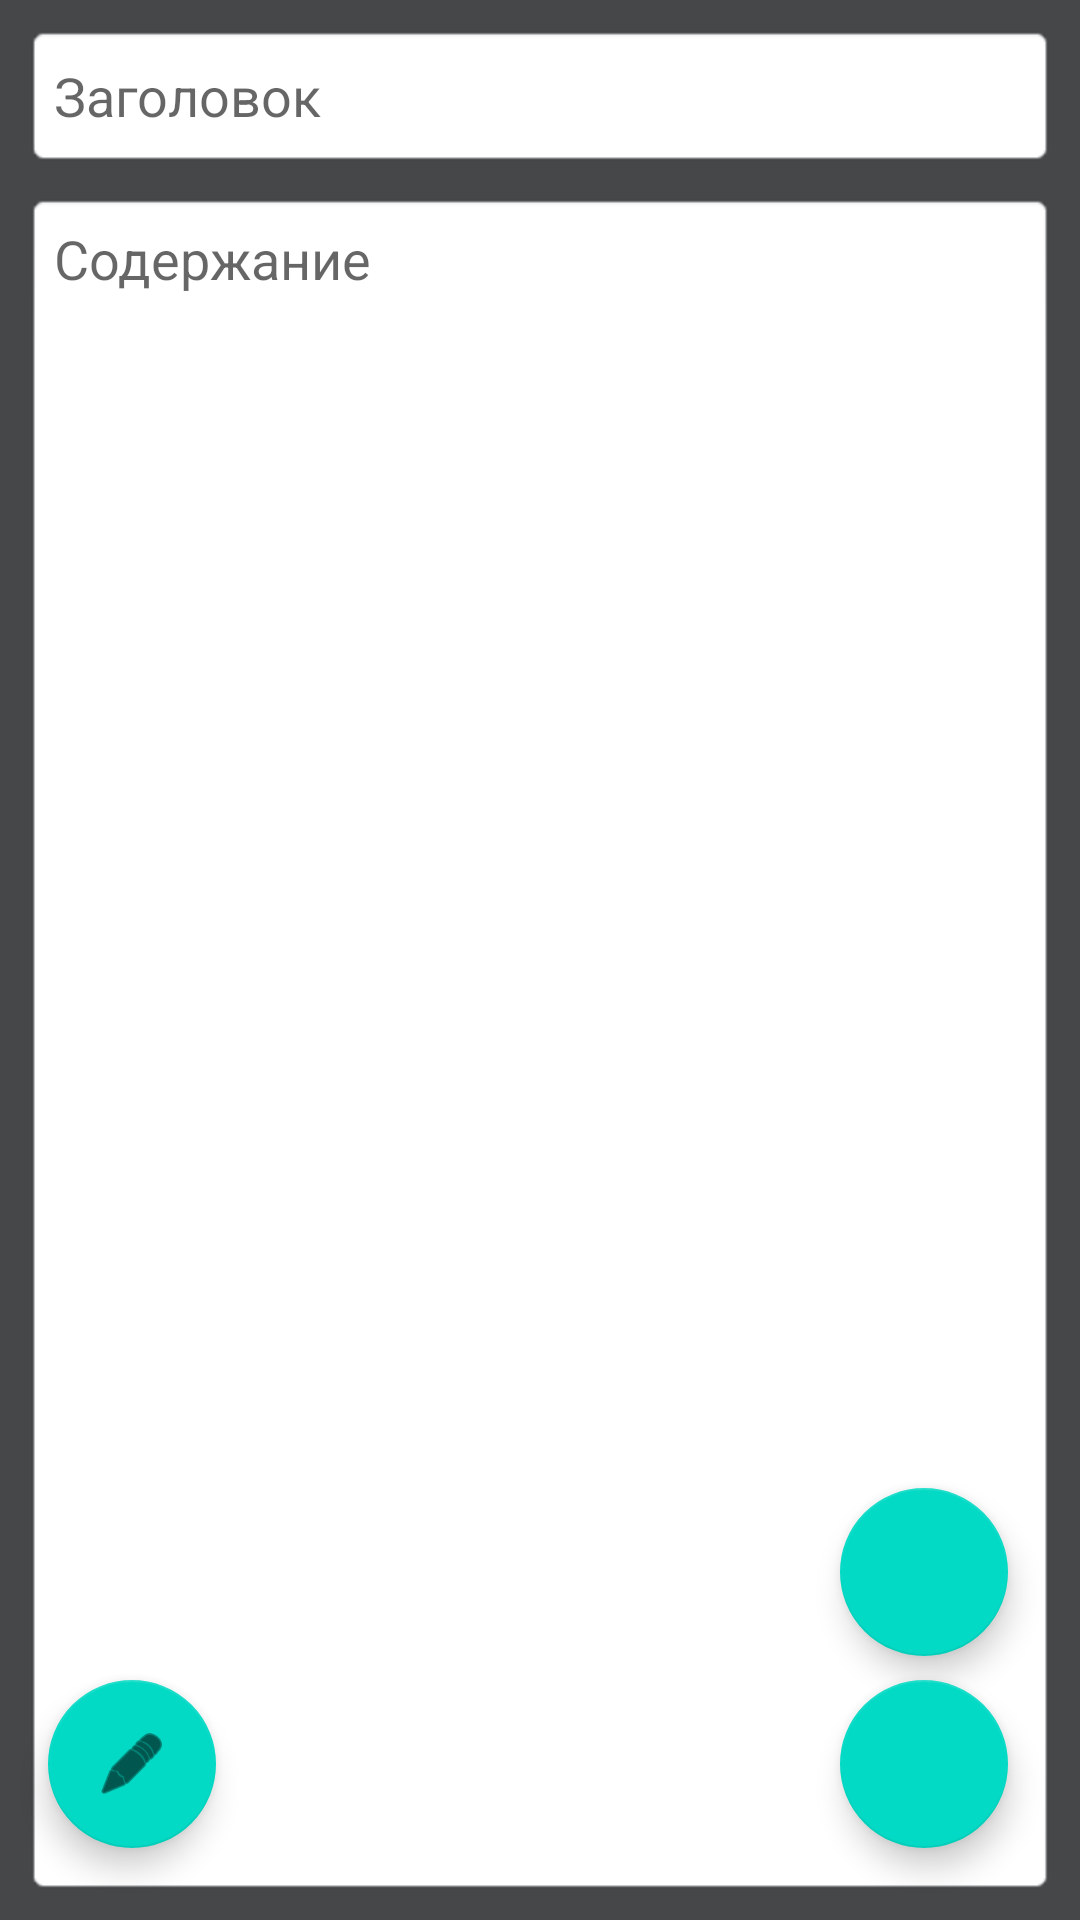

Point at icon controls on the screen. Image size 1080px×1920px, points as (x=x, y=y).
edit: (x=132, y=1764)
